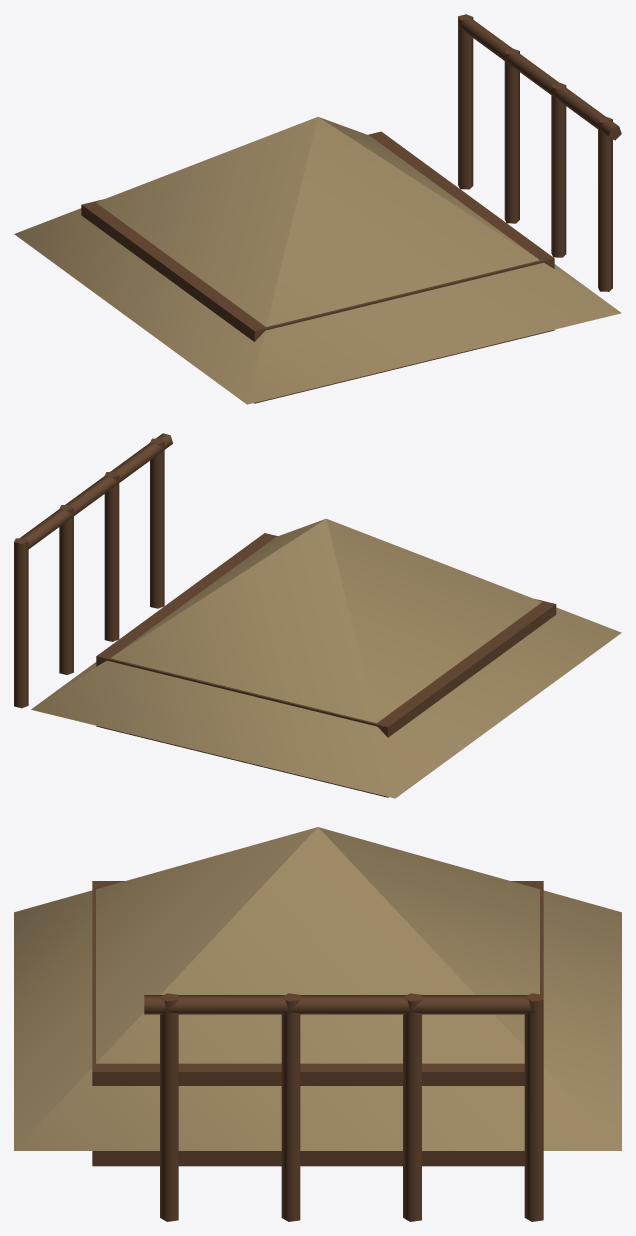
The model's file is custom-imp-hunt.glb.
The picture shows the model from 3 angles, top to bottom: view 1: azimuth 30°, elevation 25°; view 2: azimuth 150°, elevation 25°; view 3: azimuth 270°, elevation 25°; orthographic projection. The views are drawn at different scales.
Visible parts, largest first — view 1: custom-imp-hunt; view 2: custom-imp-hunt; view 3: custom-imp-hunt.
Boxes of the visible parts, x1=… form: custom-imp-hunt: x1=14, y1=14, x2=621, y2=404; custom-imp-hunt: x1=14, y1=433, x2=621, y2=798; custom-imp-hunt: x1=14, y1=827, x2=621, y2=1221.
Bounding box in the file's own units: 1 × 0.4209 × 0.9506.
